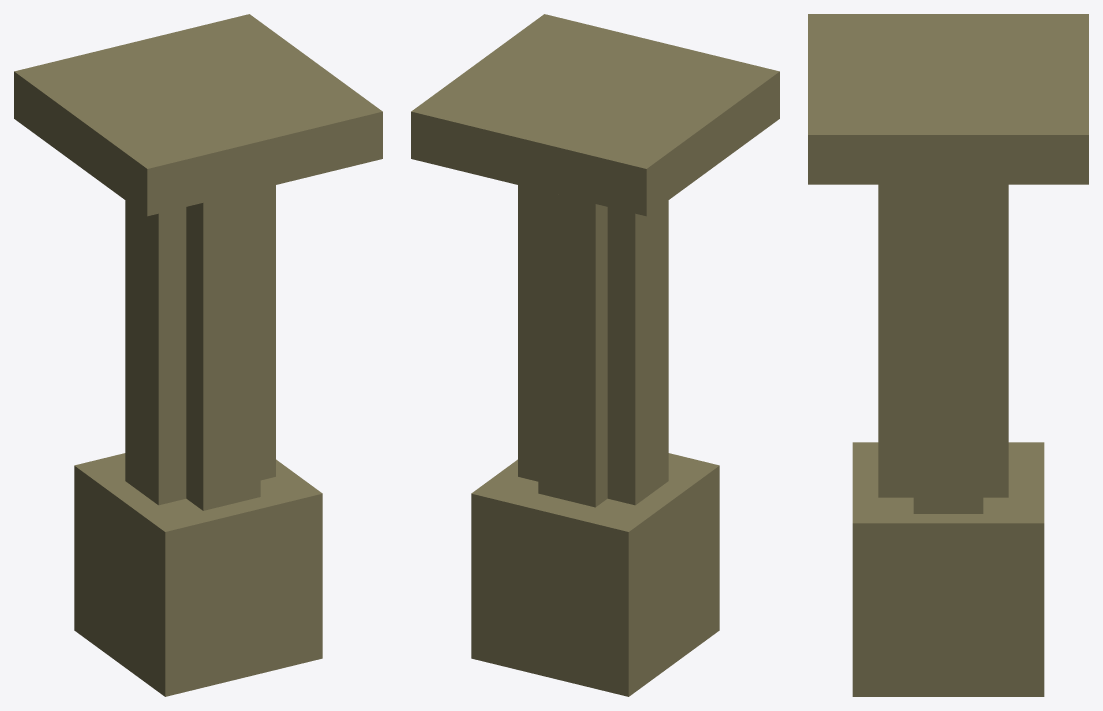
Rendered from Estale.dae.
The picture shows the model from 3 angles, left to right: view 1: azimuth 30°, elevation 25°; view 2: azimuth 150°, elevation 25°; view 3: azimuth 270°, elevation 25°; orthographic projection. The views are drawn at different scales.
Visible parts, largest first — view 1: Cube; view 2: Cube; view 3: Cube.
Boxes of the visible parts, bbox=[...] form: Cube: bbox=[14, 14, 382, 696]; Cube: bbox=[411, 14, 779, 696]; Cube: bbox=[808, 14, 1088, 696].
Size of the model in its own units: 2.46 by 2.41 by 5.52.
